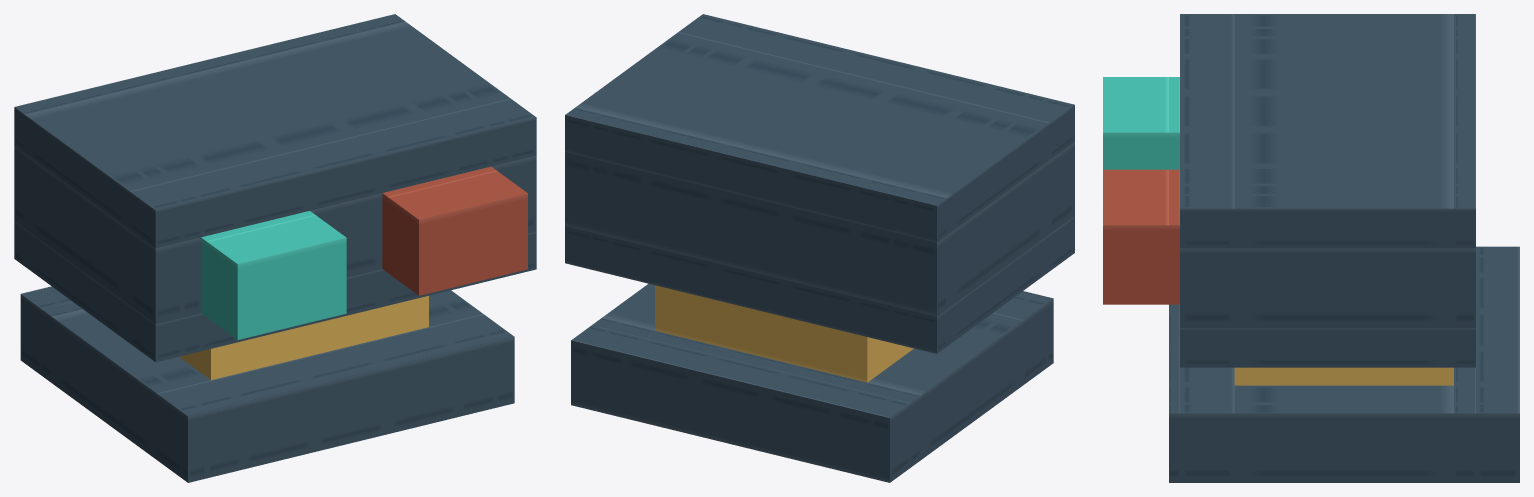
The model's file is sc_pickup_thermal_camera.obj.
3 renders of one model, left to right at view 1: azimuth 30°, elevation 25°; view 2: azimuth 150°, elevation 25°; view 3: azimuth 270°, elevation 25°, orthographic. The views are drawn at different scales.
Bounding box in the file's own units: 6.3 × 4.35 × 5.7.
Materials: 1 (1 with a texture image).
